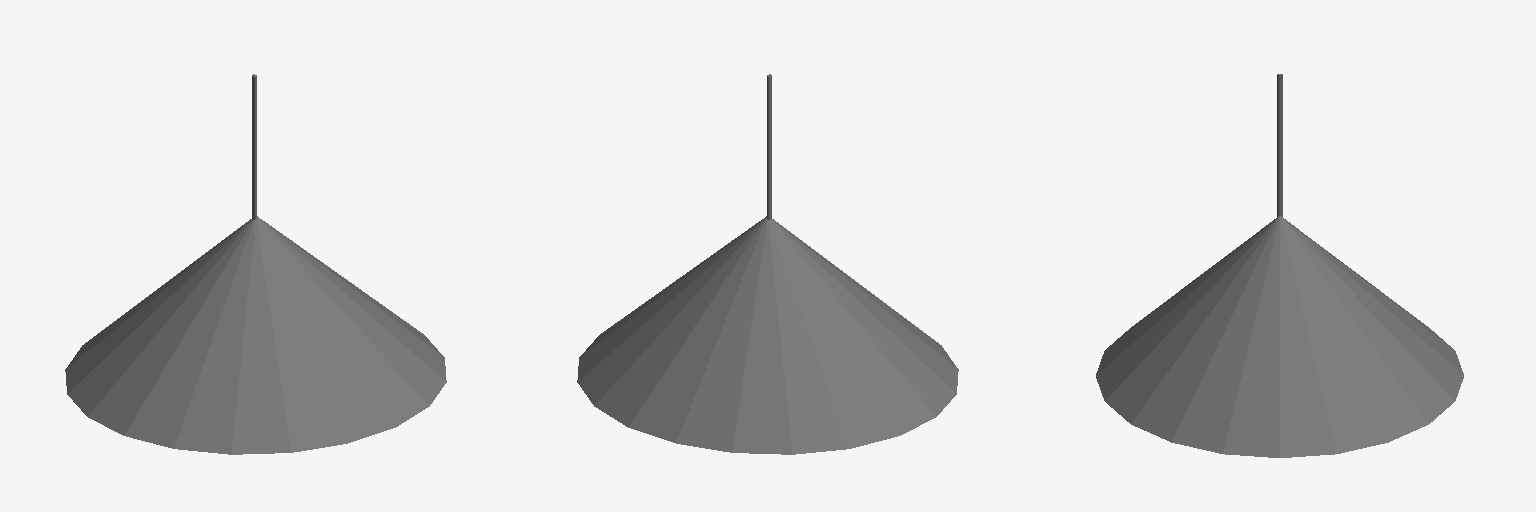
File: lamp.obj
3 renders of one model, left to right at view 1: azimuth 30°, elevation 25°; view 2: azimuth 150°, elevation 25°; view 3: azimuth 270°, elevation 25°, orthographic.
Parts seen in each view (by area): view 1: polySurface6; view 2: polySurface6; view 3: polySurface6.
Part boxes in pixels (bbox=[...]): polySurface6: bbox=[65, 74, 446, 454]; polySurface6: bbox=[577, 74, 958, 454]; polySurface6: bbox=[1096, 74, 1463, 457].
Size of the model in its own units: 3.35 by 3.43 by 3.17.